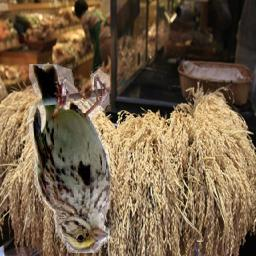Sparrow: (30, 65, 111, 254)
